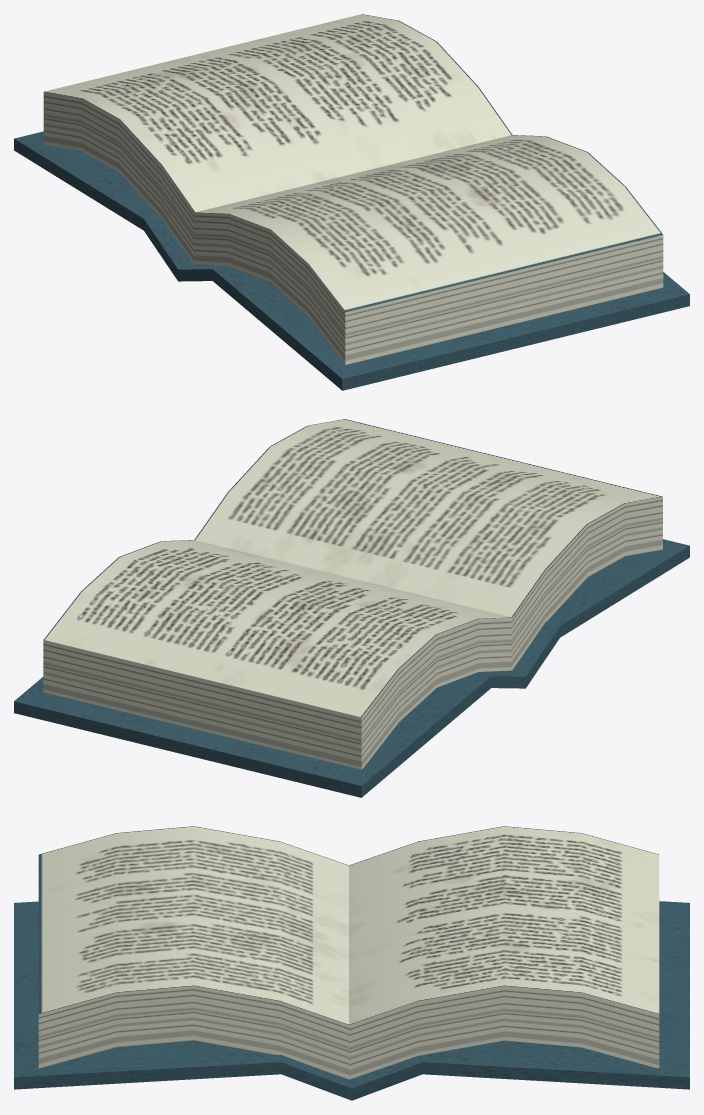
Rendered from book.fbx.
3 renders of one model, top to bottom at view 1: azimuth 30°, elevation 25°; view 2: azimuth 150°, elevation 25°; view 3: azimuth 270°, elevation 25°, orthographic. The views are drawn at different scales.
Parts seen in each view (by area): view 1: pasted__pCube2; view 2: pasted__pCube2; view 3: pasted__pCube2.
Part boxes in pixels (box(x1,y1,x2,y2)): pasted__pCube2: box(14, 14, 689, 390); pasted__pCube2: box(14, 419, 689, 797); pasted__pCube2: box(14, 826, 689, 1100).
Bounding box in the file's own units: 8.92 × 2.56 × 14.61.
Materials: 1 (1 with a texture image).
